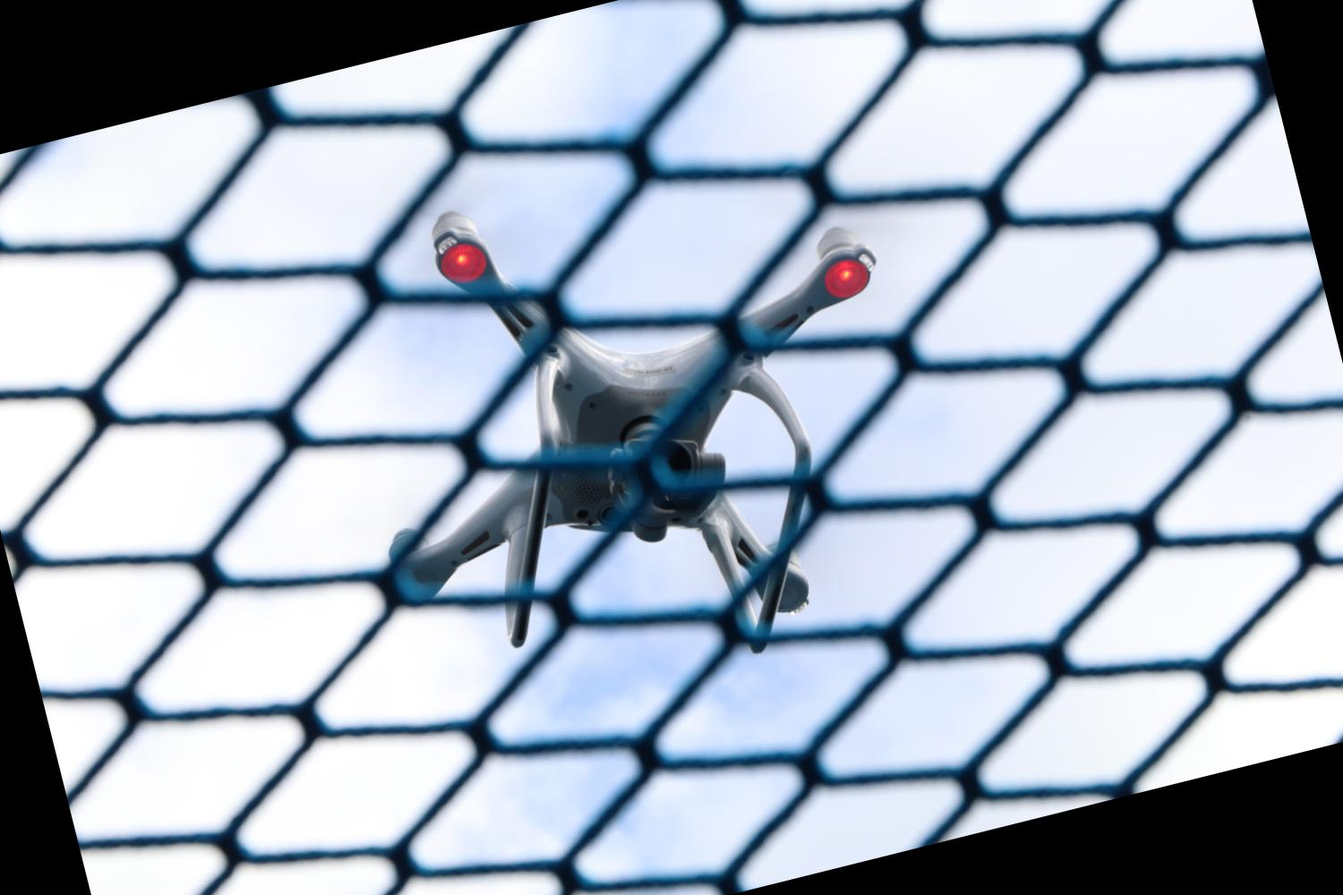drone: (269, 82, 985, 714)
